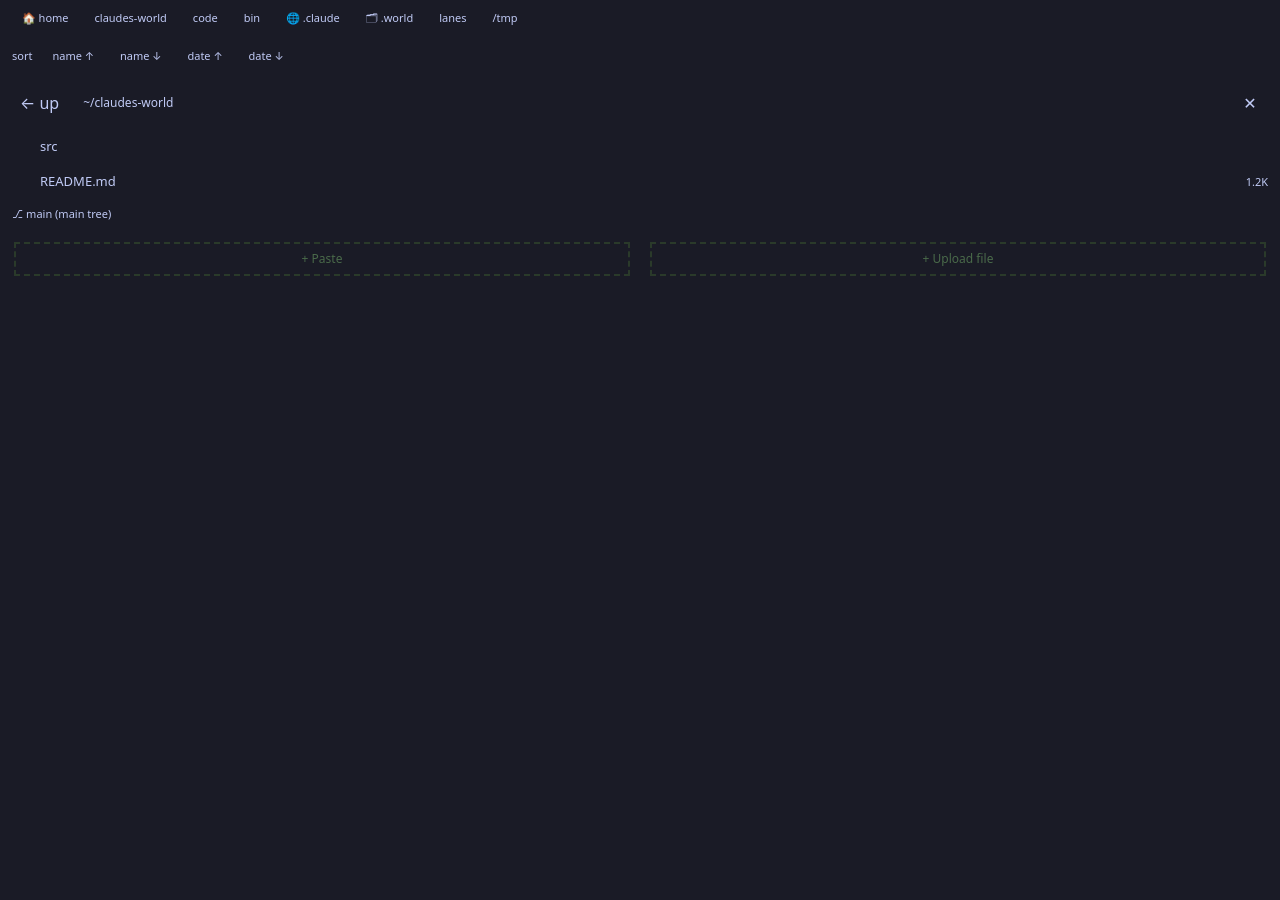
Test case: FileViewer › navigates into a directory when clicked
This screenshot has width=1280, height=900.
Click the text "src" at (49, 146), box 40,136 -> 58,154
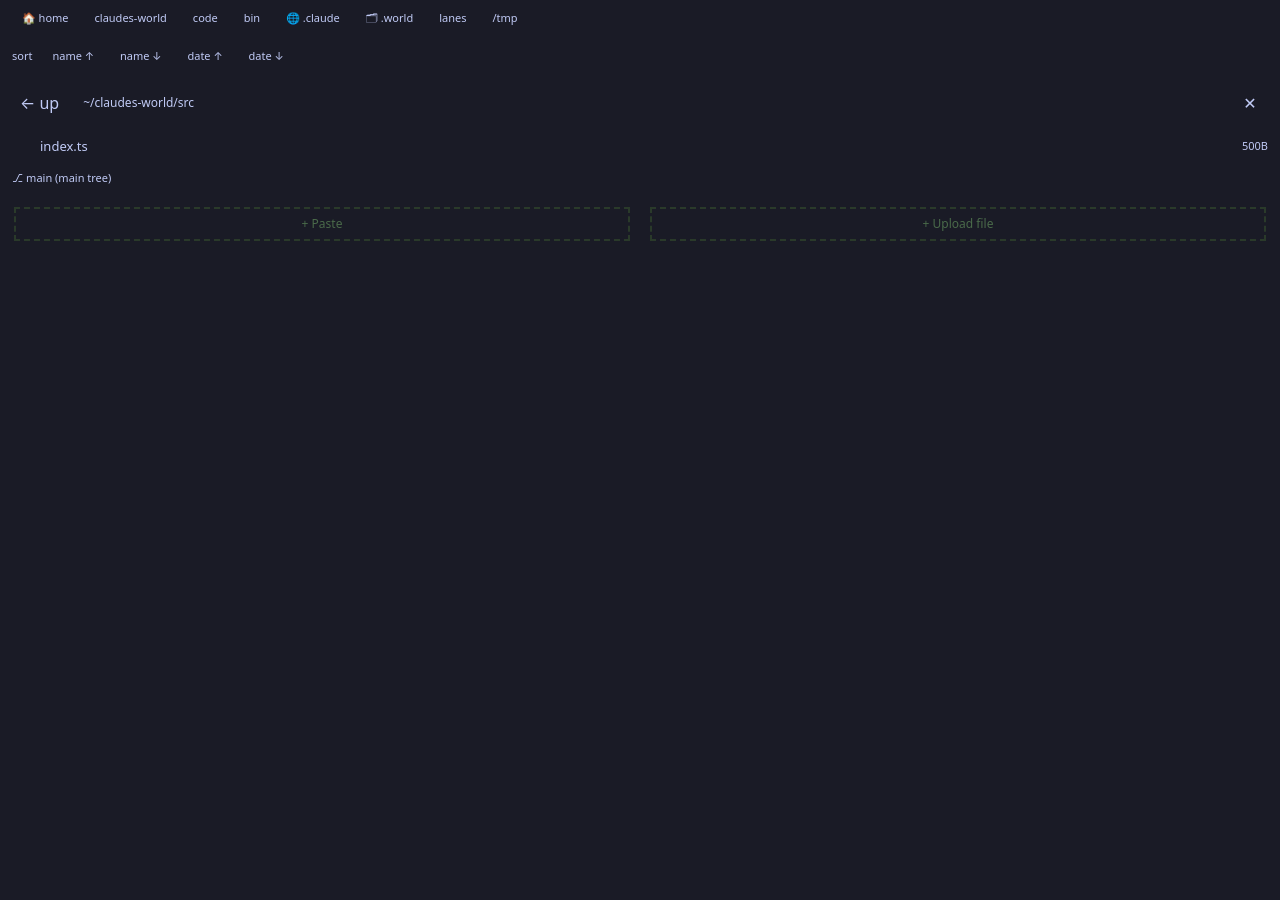
Result: the text "index.ts" is shown at 40,136 -> 88,154
